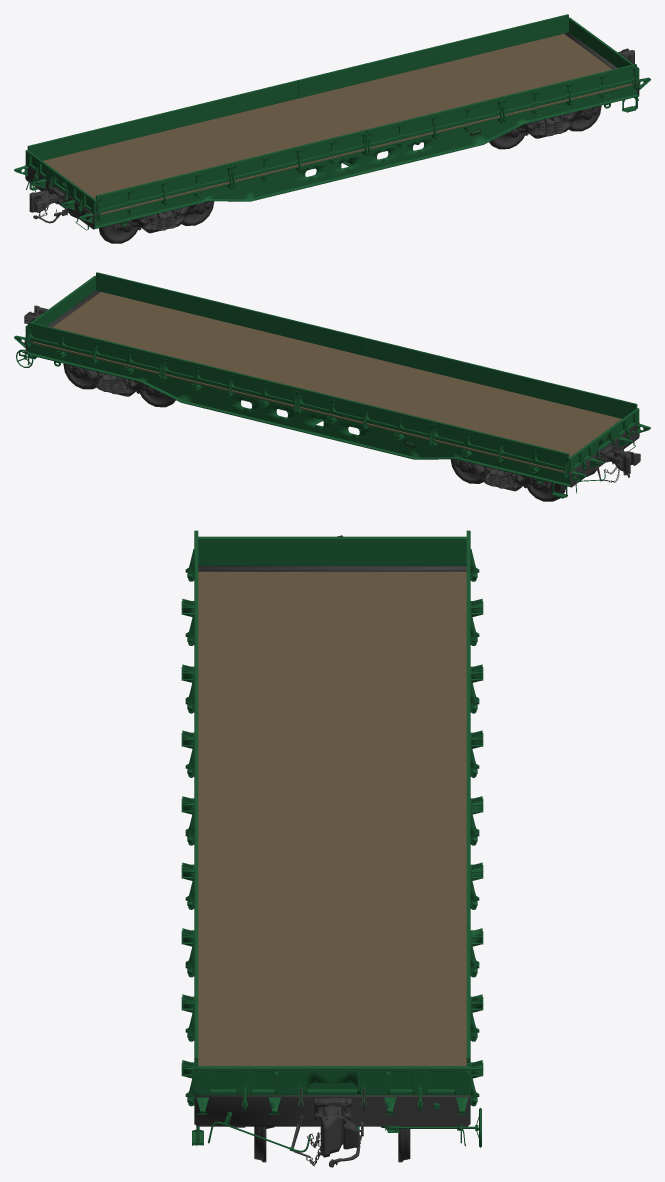
The model's file is platform_13_192_01.glb.
The picture shows the model from 3 angles, top to bottom: view 1: azimuth 30°, elevation 25°; view 2: azimuth 150°, elevation 25°; view 3: azimuth 270°, elevation 25°; orthographic projection. The views are drawn at different scales.
Parts seen in each view (by area): view 1: pl_floor, pl_side_board, pl_side_sill, pl_end_board, pl_coupler_A, pl_stake_pocket, pl_wheelset_A, pl_side_frame_A, pl_side_frame_B, pl_wheelset_B, pl_end_sill, pl_coupler_B; view 2: pl_floor, pl_side_board, pl_side_sill, pl_end_board, pl_coupler_A, pl_stake_pocket, pl_side_frame_A, pl_wheelset_A, pl_side_frame_B, pl_wheelset_B, pl_end_sill, pl_coupler_B (+1 smaller); view 3: pl_floor, pl_end_board, pl_coupler_B, pl_side_board, pl_stake_pocket, pl_end_sill, pl_coupler_A.
Boxes of the visible parts, x1,y1,x2,y2 form: pl_floor: (43,34,632,214); pl_side_board: (27,14,636,213); pl_side_sill: (94,83,638,228); pl_end_board: (25,17,639,219); pl_coupler_A: (25,164,100,229); pl_stake_pocket: (121,92,610,226); pl_wheelset_A: (69,201,214,243); pl_side_frame_A: (114,201,210,233); pl_side_frame_B: (503,106,598,138); pl_wheelset_B: (489,105,601,149); pl_end_sill: (14,77,650,223); pl_coupler_B: (564,32,639,96); pl_floor: (32,292,621,472); pl_side_board: (28,272,637,471); pl_side_sill: (26,341,570,486); pl_end_board: (25,275,639,477); pl_coupler_A: (564,422,640,487); pl_stake_pocket: (54,350,555,486); pl_side_frame_A: (454,459,550,491); pl_wheelset_A: (450,459,596,501); pl_side_frame_B: (66,364,161,396); pl_wheelset_B: (63,363,175,407); pl_end_sill: (14,335,650,493); pl_coupler_B: (24,290,100,354); pl_floor: (198,571,466,1065); pl_end_board: (187,536,477,1108); pl_coupler_B: (194,1087,470,1167); pl_side_board: (187,530,477,1065); pl_stake_pocket: (181,598,483,1078); pl_end_sill: (185,562,479,1152); pl_coupler_A: (198,535,466,571).
Bounding box in the file's own units: 15.14 × 1.67 × 3.28.
